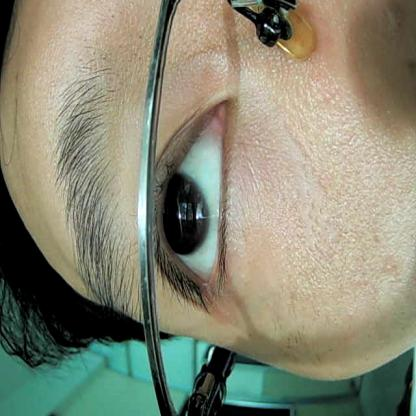Up: (150, 87, 244, 312)
